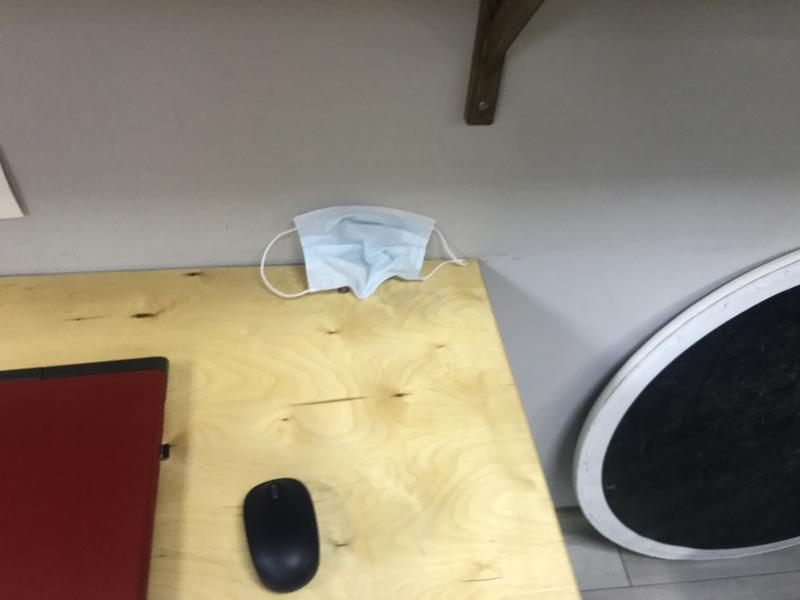medical_mask: (258, 206, 469, 300)
